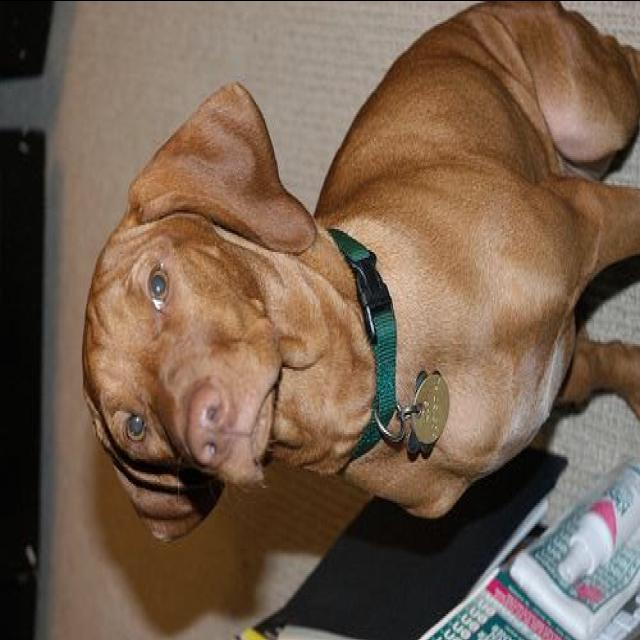vizsla: (80, 4, 638, 544)
